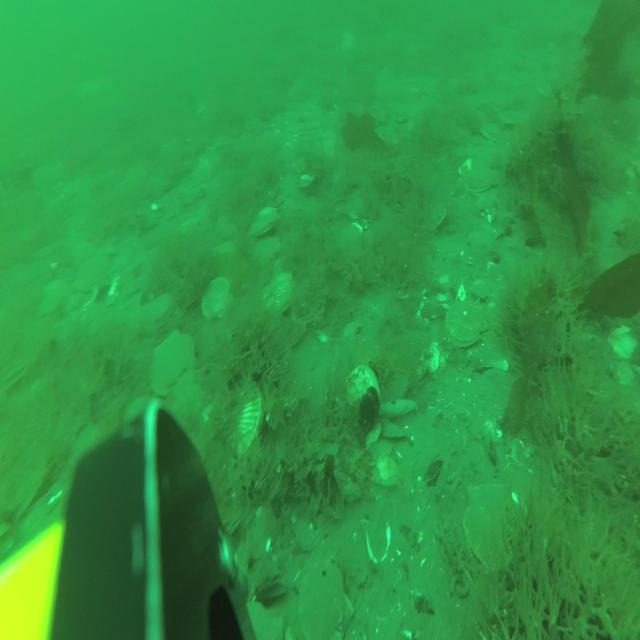scallop: (463, 481, 519, 570), (299, 554, 351, 640), (226, 380, 262, 457), (153, 332, 196, 396), (446, 296, 487, 350), (168, 374, 202, 437), (133, 288, 173, 335), (262, 271, 296, 322), (328, 220, 362, 271), (4, 354, 41, 394), (202, 278, 232, 324), (250, 206, 278, 245)
